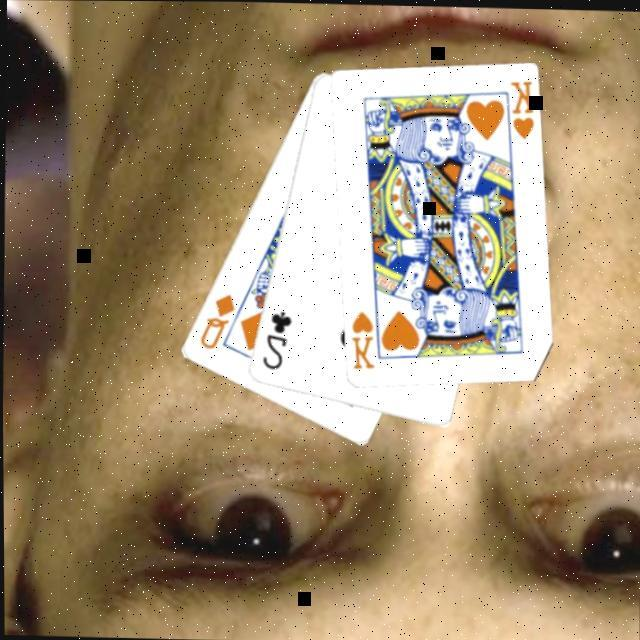2C: (255, 307, 290, 373)
KH: (503, 76, 534, 143), (343, 307, 374, 372)
QD: (192, 290, 234, 353)
